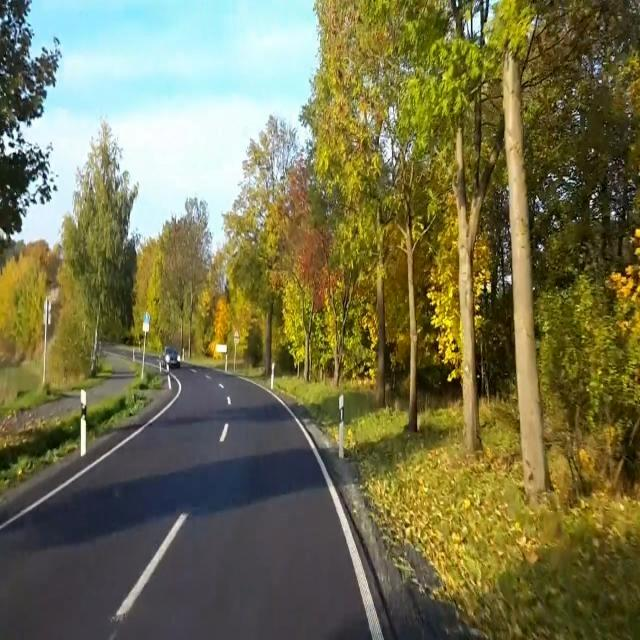lane: (247, 380, 385, 639), (1, 376, 181, 529), (114, 512, 188, 621)
road: (0, 366, 381, 639), (0, 367, 370, 639)
